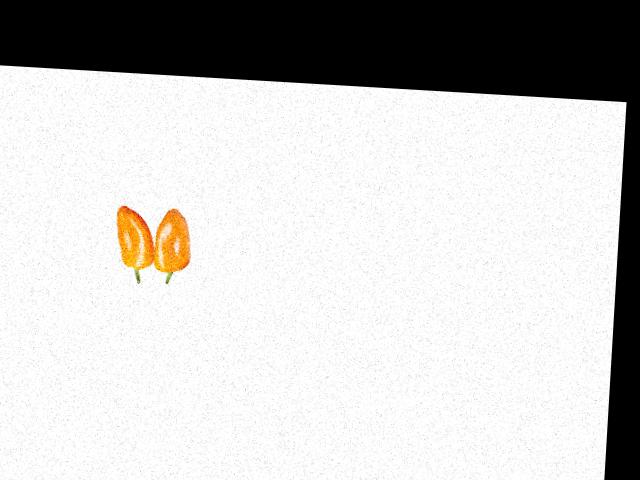bell_pepper: (150, 192, 201, 287)
